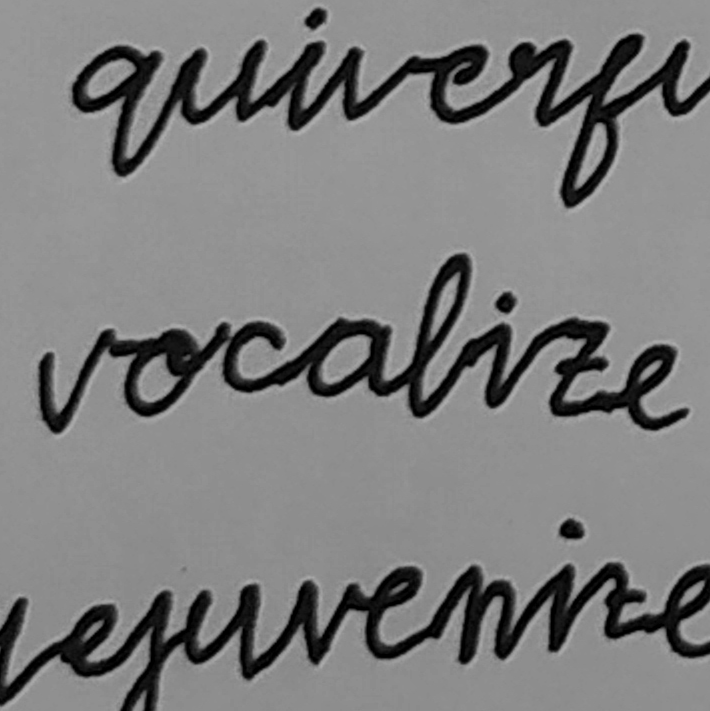a: (301, 310, 396, 406)
c: (215, 314, 291, 400)
e: (619, 340, 694, 433)
i: (476, 287, 525, 411)
l: (403, 250, 474, 420)
o: (118, 323, 207, 423)
v: (30, 324, 116, 436)
z: (541, 312, 613, 423)
